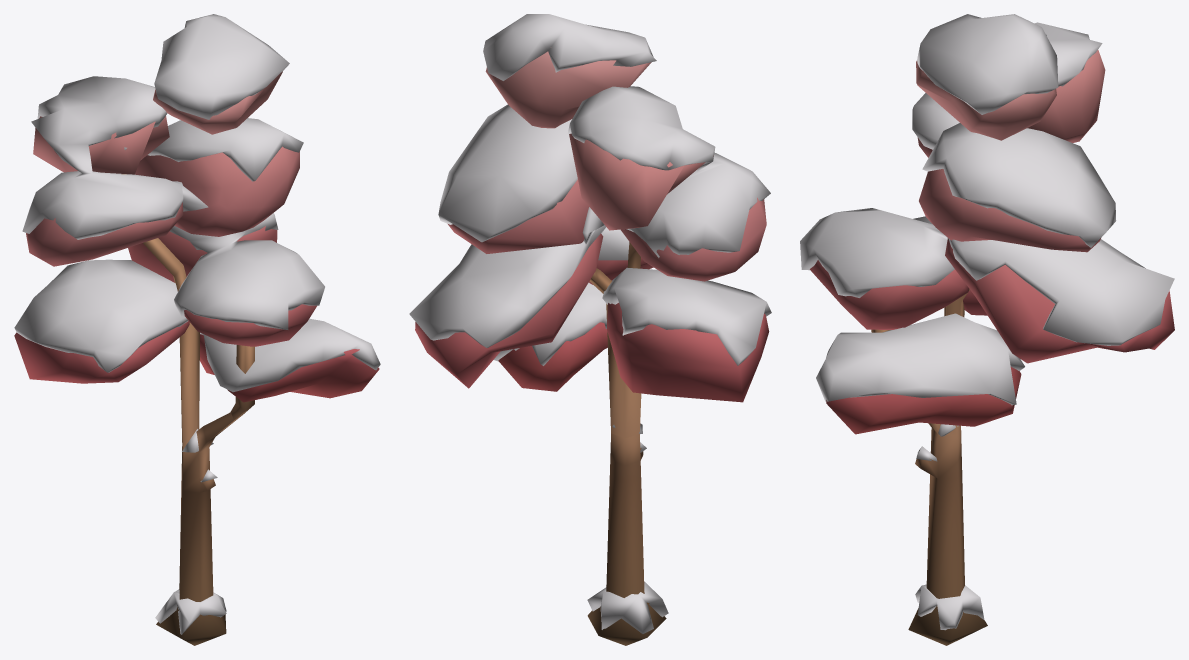
Rendered from TreeSnowy_4.fbx.
The picture shows the model from 3 angles, left to right: view 1: azimuth 30°, elevation 25°; view 2: azimuth 150°, elevation 25°; view 3: azimuth 270°, elevation 25°; orthographic projection. The views are drawn at different scales.
Visible parts, largest first — view 1: TreeSnowy_4; view 2: TreeSnowy_4; view 3: TreeSnowy_4.
Part boxes in pixels (bbox=[...]): TreeSnowy_4: bbox=[14, 14, 380, 645]; TreeSnowy_4: bbox=[409, 14, 771, 645]; TreeSnowy_4: bbox=[800, 14, 1174, 645].
Size of the model in its own units: 227 by 471 by 246.
